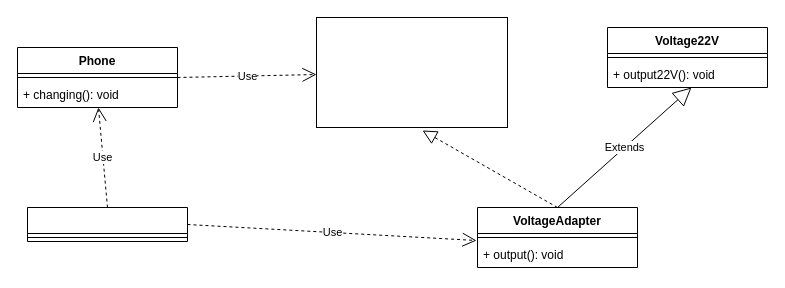
The diagram is 785 pixels wide and 288 high, and some of its shapes have lost their labels. The shapes that lost their labels are listed below. From the top down, each one's centre as x and y in pixels, then its label:
At [412,72]: "<<Interface>> IVoltage5V + output5V(): void".
At [107,224]: "Client".
